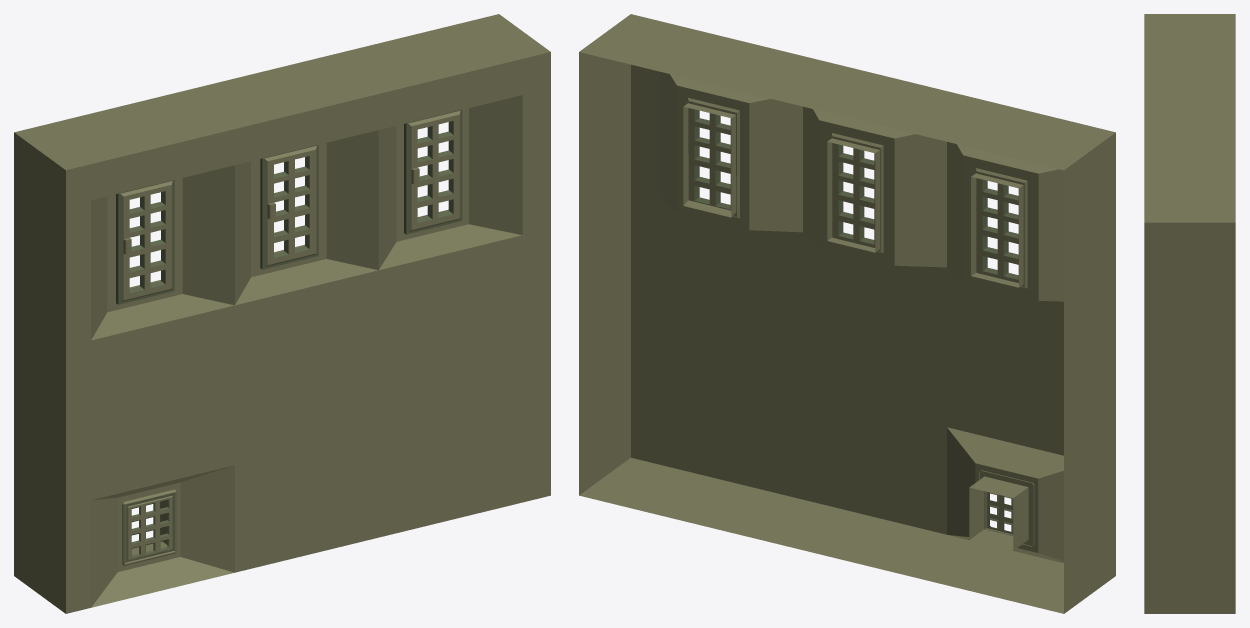
File: home_big_wall1.fbx
3 renders of one model, left to right at view 1: azimuth 30°, elevation 25°; view 2: azimuth 150°, elevation 25°; view 3: azimuth 270°, elevation 25°, orthographic. The views are drawn at different scales.
Visible parts, largest first — view 1: home_big_wall; view 2: home_big_wall; view 3: home_big_wall.
Part boxes in pixels (x1=…): home_big_wall: x1=14, y1=14, x2=550, y2=613; home_big_wall: x1=579, y1=14, x2=1115, y2=613; home_big_wall: x1=1144, y1=14, x2=1235, y2=613.
Bounding box in the file's own units: 14.82 × 12.95 × 2.74.
